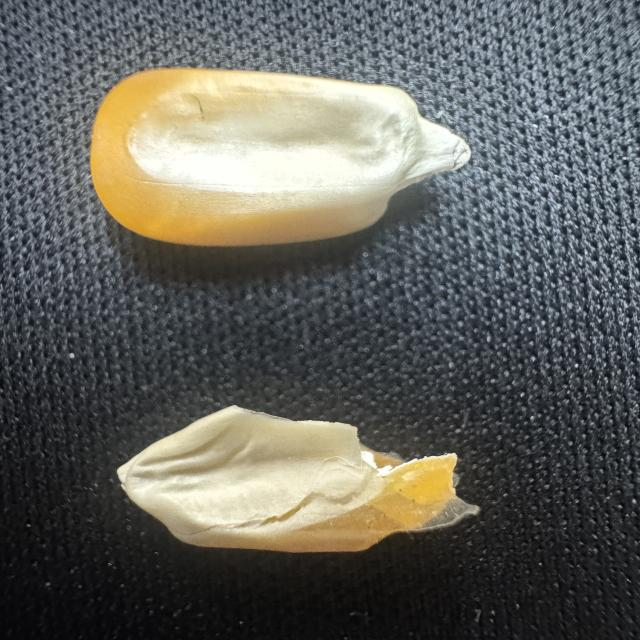Bad-Seed: (115, 407, 473, 561)
Good-Seed: (81, 57, 485, 266)
